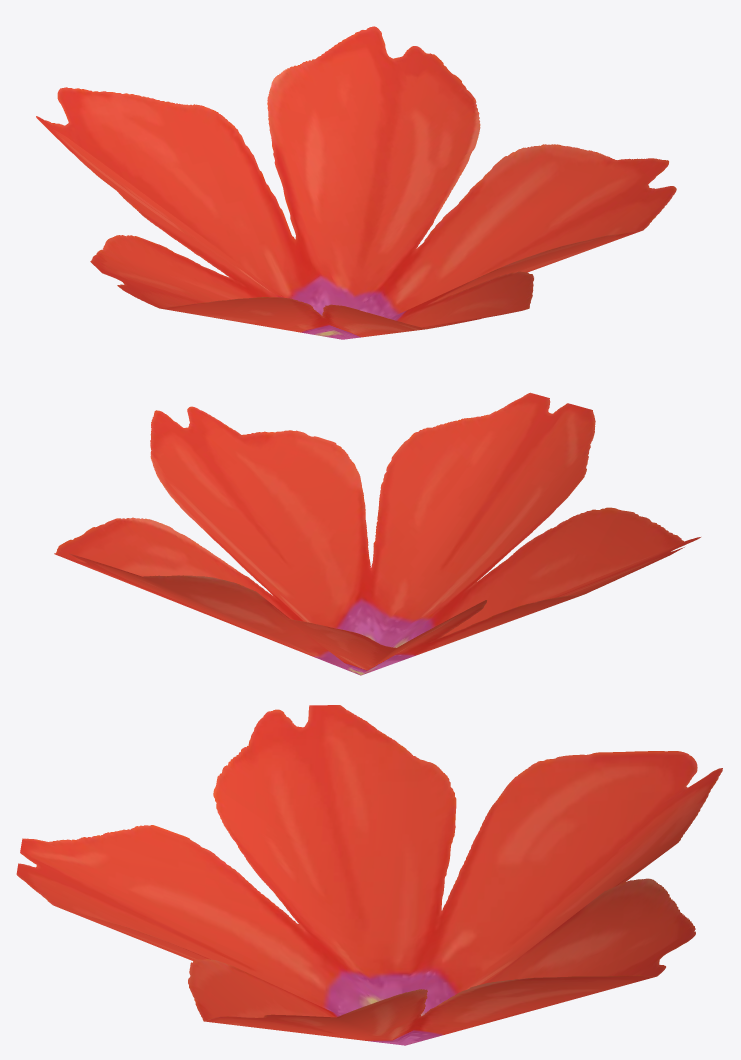
File: Petal_3.gltf
3 renders of one model, top to bottom at view 1: azimuth 30°, elevation 25°; view 2: azimuth 150°, elevation 25°; view 3: azimuth 270°, elevation 25°, orthographic. The views are drawn at different scales.
Parts seen in each view (by area): view 1: Petal_3; view 2: Petal_3; view 3: Petal_3.
Part boxes in pixels (x1,y1,x2,y2): Petal_3: [36, 26, 676, 339]; Petal_3: [54, 392, 700, 675]; Petal_3: [16, 705, 722, 1045].
Bounding box in the file's own units: 0.6195 × 0.1895 × 0.6064.
1 material, 1 textured.
